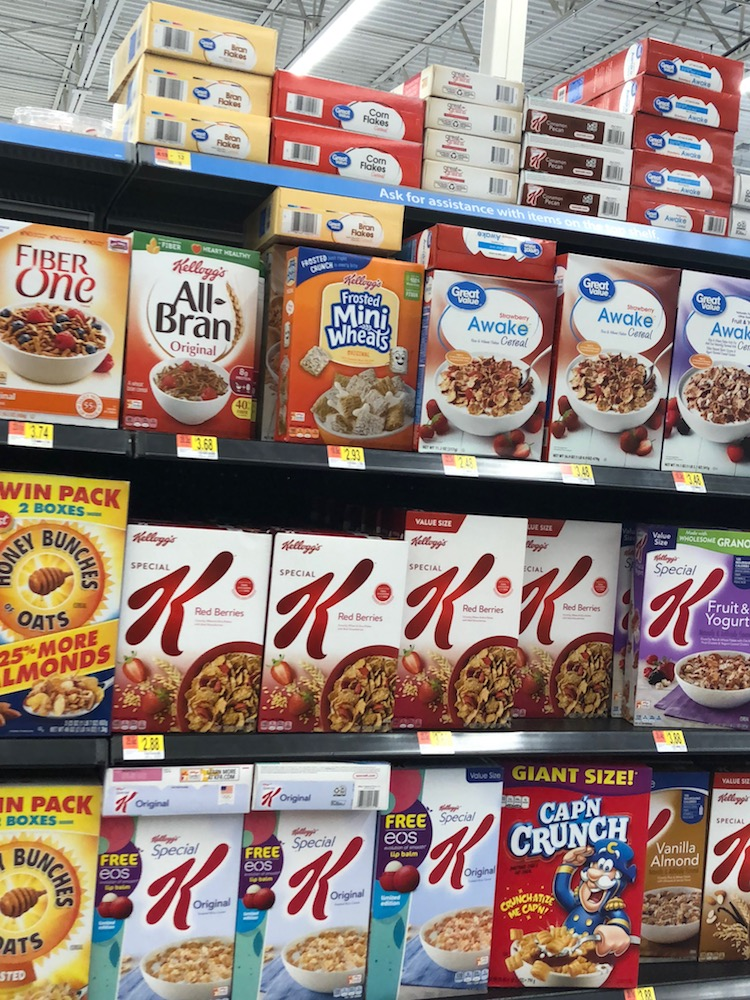Frosted Mini Original -9295869: (279, 248, 430, 448)
